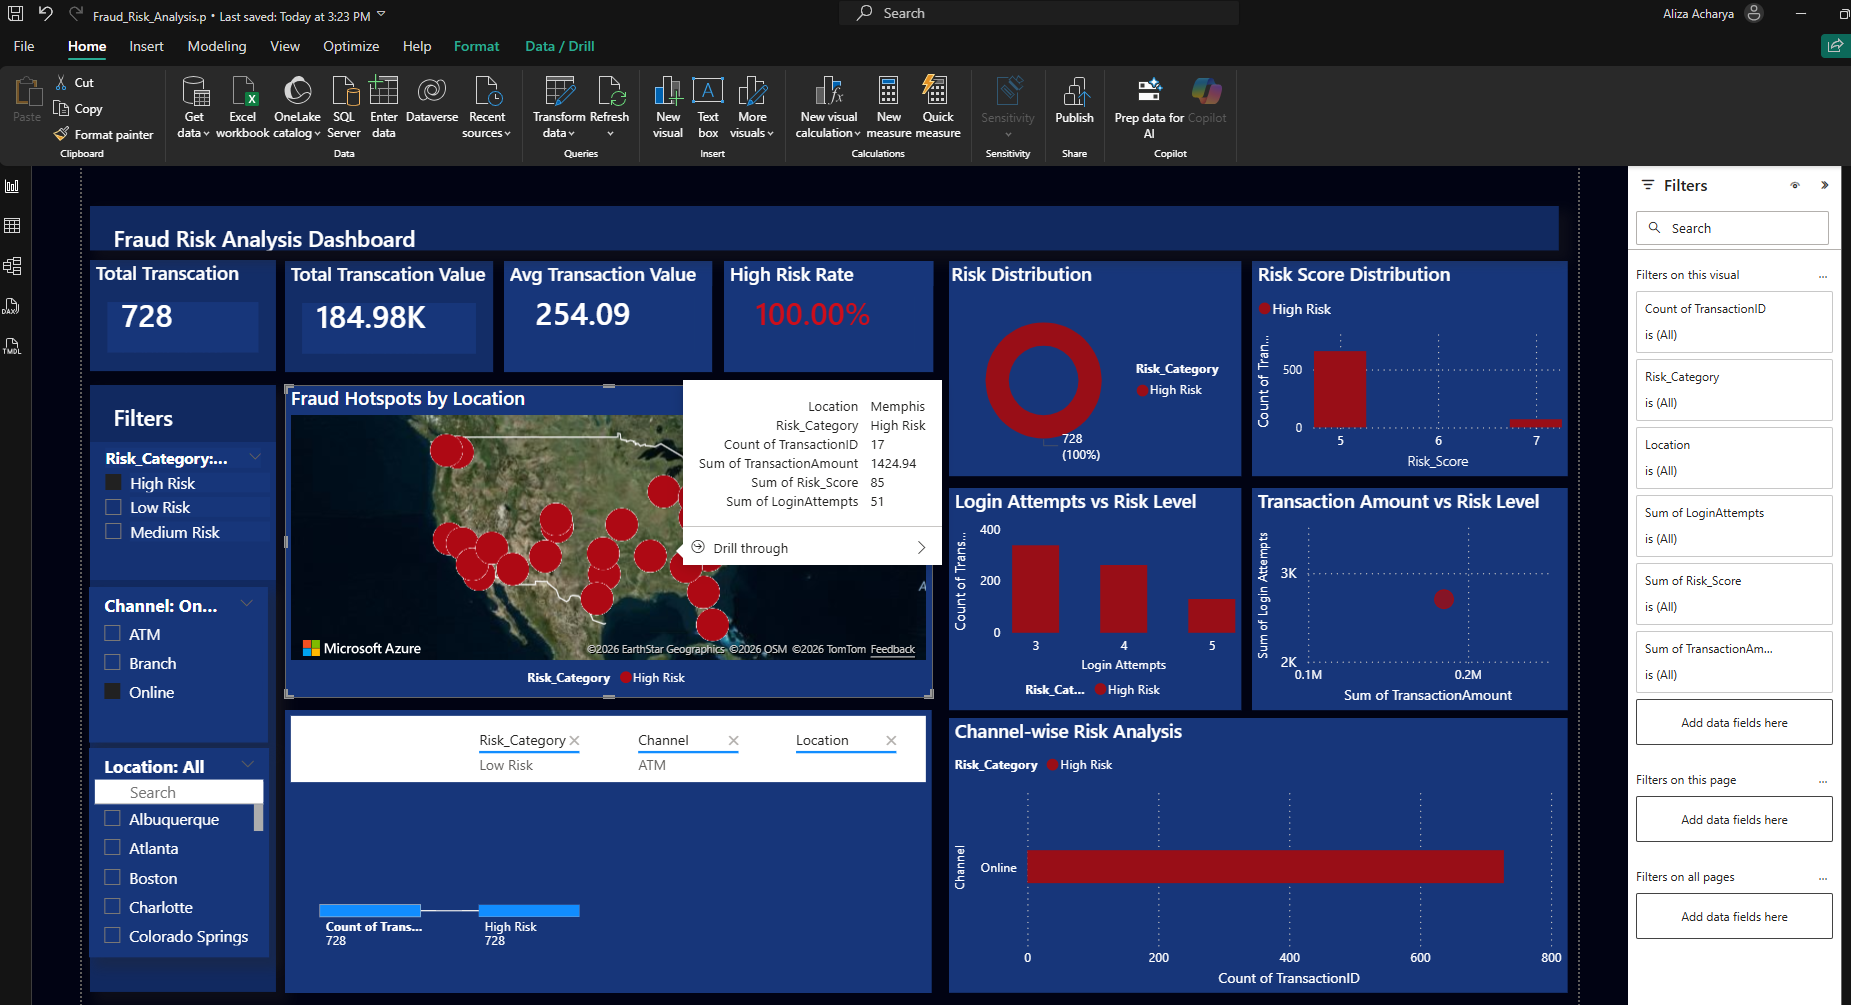

The page's visual inventory and layout, read from the dashboard file:
{"tool":"powerbi","page":{"name":"Page 1","canvas":[1280,720],"ordinal":0},"visuals":[{"type":"textbox","title":"Filters","box":[6.9,187.5,159,519.3],"z":0},{"type":"cardVisual","title":"Total Transcation","fields":{"Data":["CountNonNull(fraud_risk_analysis_transactions csv.TransactionID)"]},"box":[6.9,80.5,159,95.2],"z":2000},{"type":"cardVisual","title":"Avg Transaction Value","fields":{"Data":["Avg(fraud_risk_analysis_transactions csv.TransactionAmount)"]},"box":[361.2,81.5,178,95],"z":3000},{"type":"barChart","title":"Channel-wise Risk Analysis","fields":{"Y":["CountNonNull(fraud_risk_analysis_transactions csv.TransactionID)"],"Category":["fraud_risk_analysis_transactions csv.Channel"],"Series":["fraud_risk_analysis_transactions csv.Risk_Category"]},"box":[741.5,472.3,528.8,234.8],"z":4000},{"type":"clusteredColumnChart","title":"Login Attempts vs Risk Level","fields":{"Category":["fraud_risk_analysis_transactions csv.LoginAttempts"],"Y":["CountNonNull(fraud_risk_analysis_transactions csv.TransactionID)"],"Series":["fraud_risk_analysis_transactions csv.Risk_Category"]},"box":[741.5,275.4,249.8,189.8],"z":5000},{"type":"donutChart","title":"Risk Distribution","fields":{"Category":["fraud_risk_analysis_transactions csv.Risk_Category"],"Y":["CountNonNull(fraud_risk_analysis_transactions csv.TransactionID)"]},"box":[741.5,81.2,249.8,183.6],"z":6000},{"type":"clusteredColumnChart","title":"Risk Score Distribution","fields":{"Category":["fraud_risk_analysis_transactions csv.Risk_Score"],"Y":["CountNonNull(fraud_risk_analysis_transactions csv.TransactionID)"],"Series":["fraud_risk_analysis_transactions csv.Risk_Category"]},"box":[1000.2,81.2,270.1,183.6],"z":7000},{"type":"scatterChart","title":"Transaction Amount vs Risk Level","fields":{"X":["Sum(fraud_risk_analysis_transactions csv.TransactionAmount)"],"Y":["Sum(fraud_risk_analysis_transactions csv.LoginAttempts)"],"Size":["Sum(fraud_risk_analysis_transactions csv.Risk_Score)"],"Series":["fraud_risk_analysis_transactions csv.Risk_Category"]},"box":[1000.2,275.4,270.1,189.8],"z":8000},{"type":"azureMap","title":"Fraud Hotspots by Location","fields":{"Category":["fraud_risk_analysis_transactions csv.Location"],"Size":["CountNonNull(fraud_risk_analysis_transactions csv.TransactionID)"],"Series":["fraud_risk_analysis_transactions csv.Risk_Category"]},"box":[173.9,187.1,553.5,267.5],"z":10000},{"type":"slicer","fields":{"Values":["fraud_risk_analysis_transactions csv.Risk_Category"]},"box":[6.9,235.6,159,117.8],"z":11000},{"type":"slicer","fields":{"Values":["fraud_risk_analysis_transactions csv.Channel"]},"box":[5.9,360.2,153.1,133.5],"z":12000},{"type":"slicer","fields":{"Values":["fraud_risk_analysis_transactions csv.Location"]},"box":[5.9,497.7,154.1,178.7],"z":13000},{"type":"cardVisual","title":"Total Transcation Value","fields":{"Data":["Sum(fraud_risk_analysis_transactions csv.TransactionAmount)"]},"box":[173.7,81.5,178,95],"z":14000},{"type":"textbox","title":"Fraud Risk Analysis Dashboard","box":[6.9,34.4,1256.4,38.3],"z":15000},{"type":"cardVisual","title":"High Risk Rate","fields":{"Data":["fraud_risk_analysis_transactions csv.HighRisk %"]},"box":[548.7,81.5,178.7,95.2],"z":16000},{"type":"decompositionTreeVisual","fields":{"Analyze":["CountNonNull(fraud_risk_analysis_transactions csv.TransactionID)"],"ExplainBy":["fraud_risk_analysis_transactions csv.Risk_Category","fraud_risk_analysis_transactions csv.Channel","fraud_risk_analysis_transactions csv.Location","fraud_risk_analysis_transactions csv.LoginAttempts"]},"box":[173.9,465.2,553.5,241.9],"z":17000}]}

Visuals, with their boxes on the page's 1280x720 design canvas (x1, y1, x2, y2). These are canvas units, not pixel positions in the 1851x1005 screenshot, which may show the page scaled, cropped or inside an application window:
"Filters" textbox: rect(7, 188, 166, 707)
"Total Transcation" cardVisual: rect(7, 80, 166, 176)
"Avg Transaction Value" cardVisual: rect(361, 82, 539, 176)
"Channel-wise Risk Analysis" barChart: rect(742, 472, 1270, 707)
"Login Attempts vs Risk Level" clusteredColumnChart: rect(742, 275, 991, 465)
"Risk Distribution" donutChart: rect(742, 81, 991, 265)
"Risk Score Distribution" clusteredColumnChart: rect(1000, 81, 1270, 265)
"Transaction Amount vs Risk Level" scatterChart: rect(1000, 275, 1270, 465)
"Fraud Hotspots by Location" azureMap: rect(174, 187, 727, 455)
slicer - fraud_risk_analysis_transactions csv.Risk_Category: rect(7, 236, 166, 353)
slicer - fraud_risk_analysis_transactions csv.Channel: rect(6, 360, 159, 494)
slicer - fraud_risk_analysis_transactions csv.Location: rect(6, 498, 160, 676)
"Total Transcation Value" cardVisual: rect(174, 82, 352, 176)
"Fraud Risk Analysis Dashboard" textbox: rect(7, 34, 1263, 73)
"High Risk Rate" cardVisual: rect(549, 82, 727, 177)
decompositionTreeVisual - CountNonNull(fraud_risk_analysis_transactions csv.TransactionID) x fraud_risk_analysis_transactions csv.Risk_Category: rect(174, 465, 727, 707)
